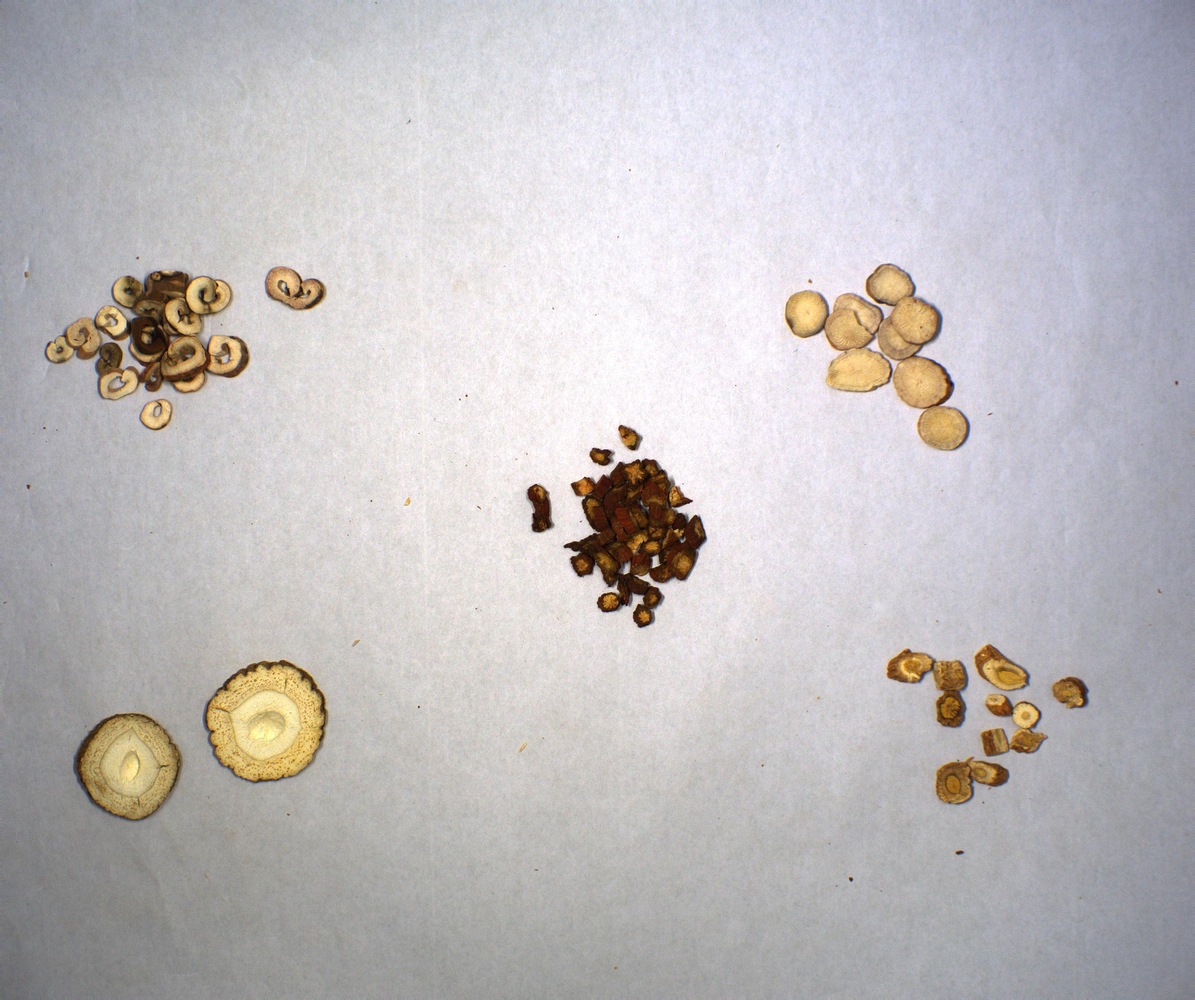baishao: (782, 263, 973, 457)
baizhi: (74, 653, 327, 822)
banlangen: (884, 645, 1094, 804)
danshen: (528, 423, 707, 632)
mudanpi: (43, 256, 323, 431)
